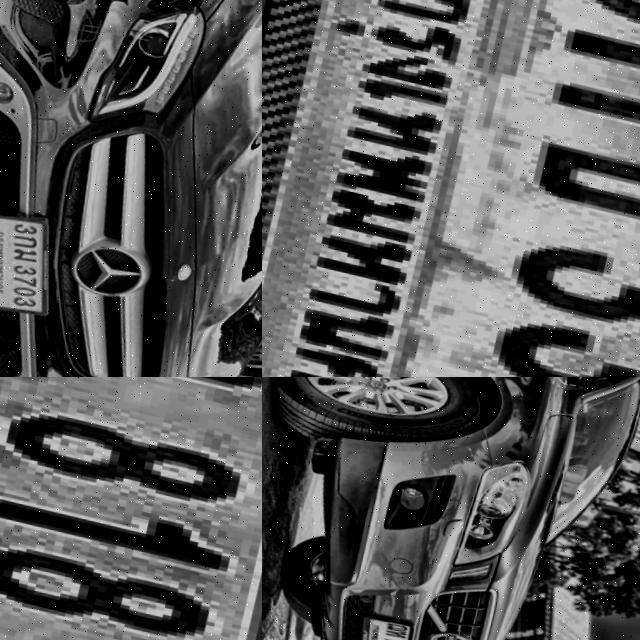license-plate: (262, 0, 640, 377), (0, 377, 262, 640), (0, 195, 82, 321), (351, 601, 434, 640)
